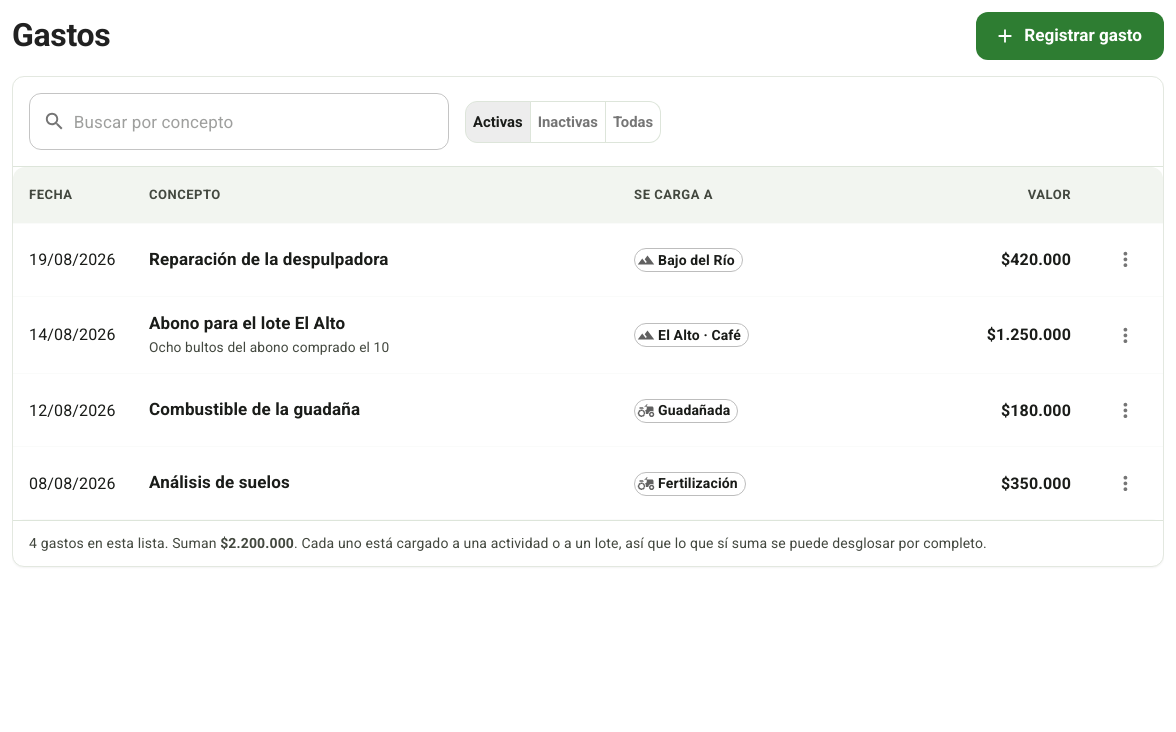
Test: the list › does not say zero expenses under a table full of expenses
Expected: the text "Abono para el lote El Alto" is shown, top-left (149, 313), bottom-right (345, 333)
Step 1. Click the button "Inactivas" → (568, 122), box top-left (530, 101), bottom-right (606, 143)
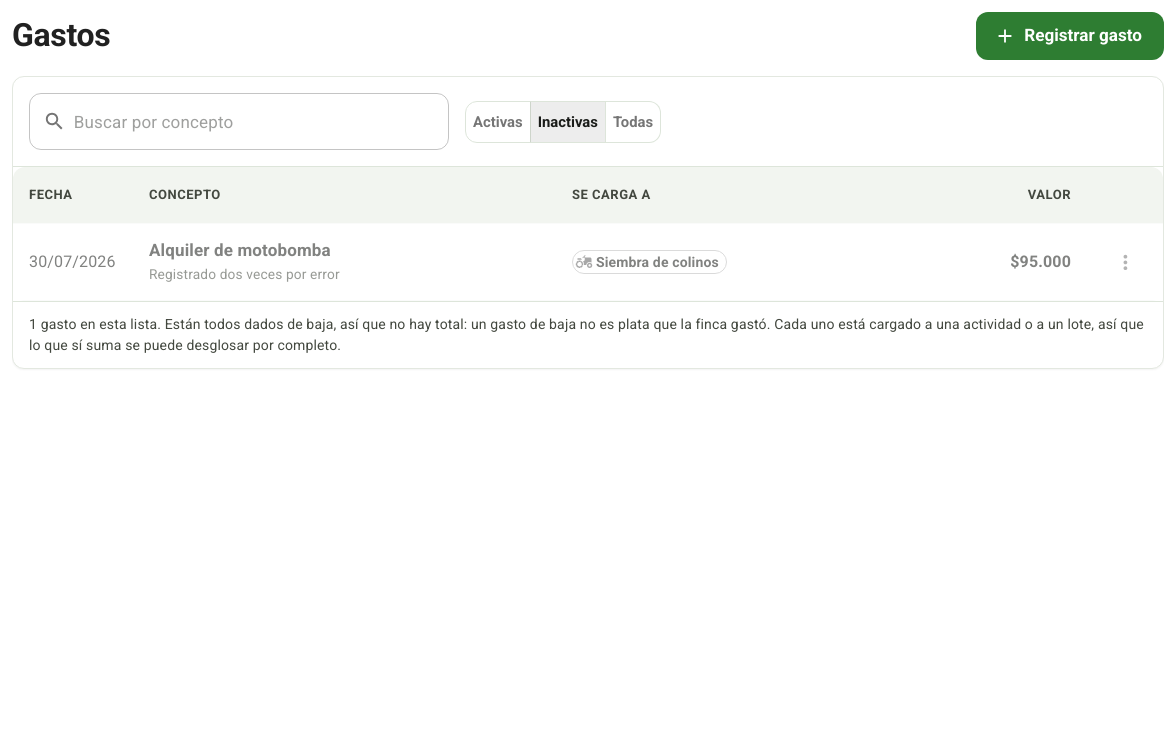
Now the text "Alquiler de motobomba" is shown, box top-left (149, 240), bottom-right (331, 260)
Now the text "1 gasto en esta lista" is shown, box top-left (13, 301), bottom-right (1163, 368)
Now the text "no hay total" is shown, box top-left (165, 316), bottom-right (771, 332)
